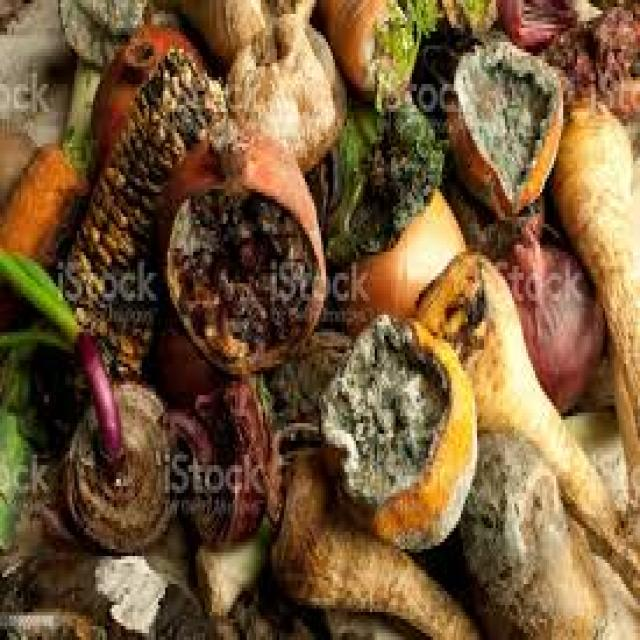biodegradable: (0, 0, 638, 637), (414, 252, 638, 594), (37, 39, 228, 420), (265, 441, 477, 637), (159, 130, 324, 375), (552, 98, 638, 552), (314, 308, 475, 549), (459, 423, 605, 637), (0, 542, 323, 636), (0, 245, 121, 458), (300, 94, 440, 252), (445, 28, 563, 210), (498, 210, 605, 409), (60, 378, 177, 556), (224, 11, 345, 172), (340, 175, 465, 329), (166, 371, 273, 549), (86, 18, 205, 165), (0, 311, 65, 556), (0, 143, 84, 329), (538, 3, 638, 119), (142, 0, 314, 56), (314, 0, 412, 91), (0, 0, 65, 136), (193, 504, 270, 612), (559, 402, 629, 507), (370, 0, 437, 101), (268, 346, 335, 423), (55, 0, 139, 59), (63, 39, 100, 172), (63, 59, 100, 161), (319, 605, 435, 637), (493, 0, 574, 45), (0, 115, 35, 210), (452, 0, 496, 35)
